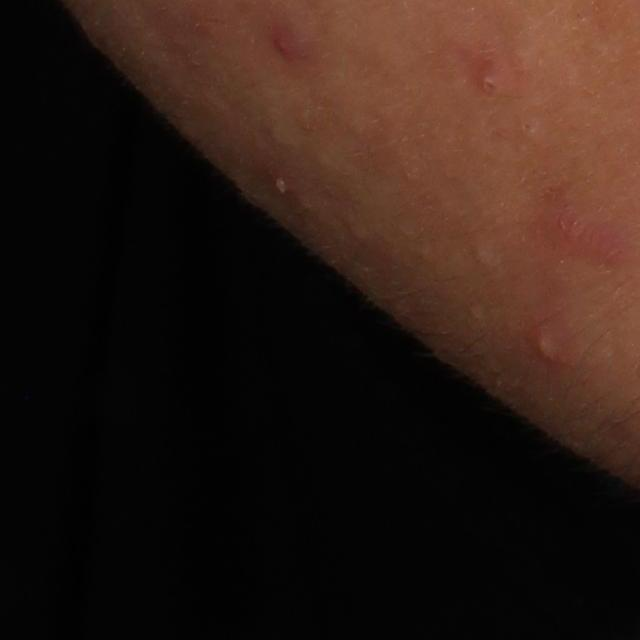comedo: (469, 242, 496, 271)
papule: (548, 206, 598, 252), (462, 53, 507, 99)
